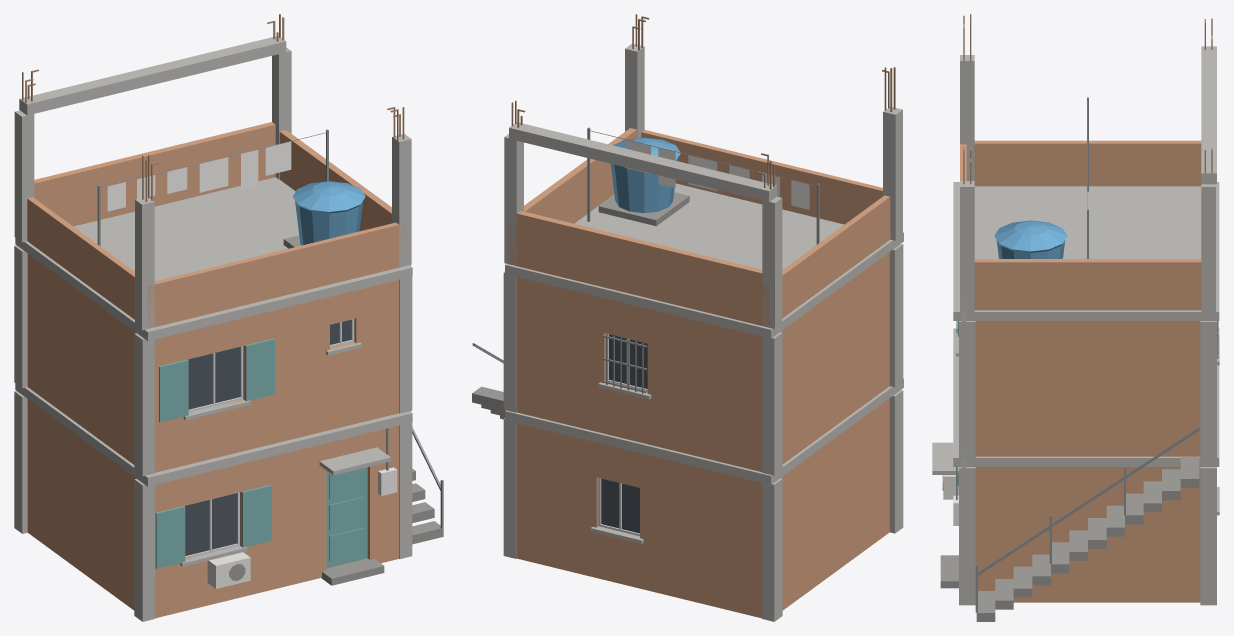
The picture shows the model from 3 angles, left to right: view 1: azimuth 30°, elevation 25°; view 2: azimuth 150°, elevation 25°; view 3: azimuth 270°, elevation 25°; orthographic projection.
Visible parts, largest first — view 1: fv_h14; view 2: fv_h14; view 3: fv_h14.
Boxes of the visible parts, x1,y1,x2,y2 form: fv_h14: (14,14,443,621); fv_h14: (472,14,903,621); fv_h14: (932,14,1219,621).
Bounding box in the file's own units: 6.46 × 9.19 × 5.17.
